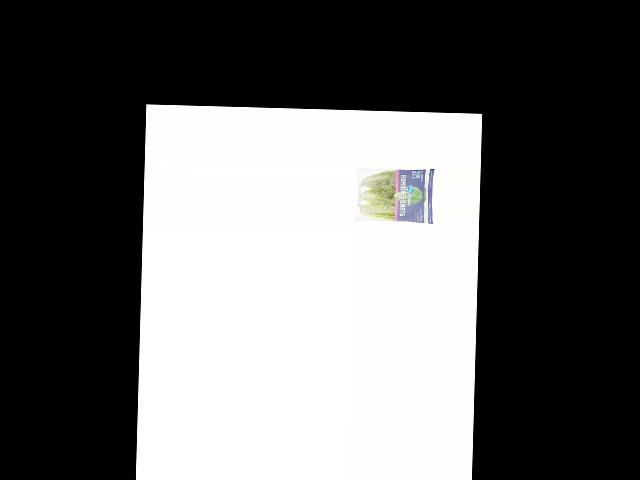lettuce: (357, 164, 433, 226)
